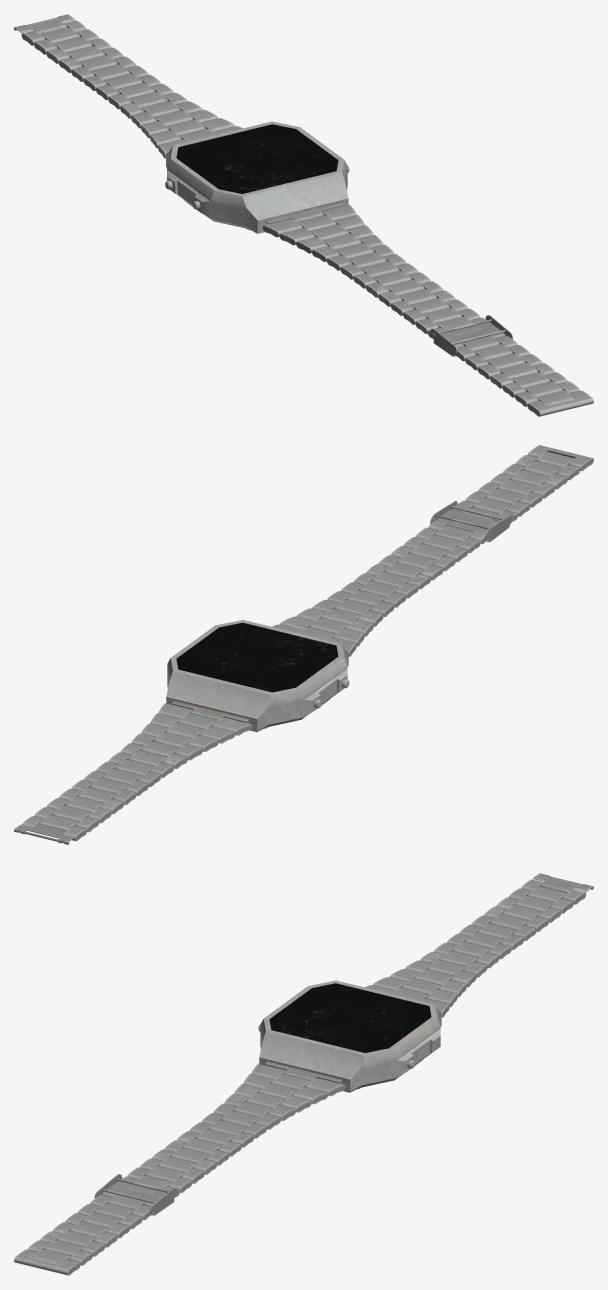
File: digital_wrist_watch.gltf
3 views of the same model, one above another, from view 1: azimuth 30°, elevation 25°; view 2: azimuth 150°, elevation 25°; view 3: azimuth 330°, elevation 25° (orthographic).
Visible parts, largest first — view 1: digital_wrist_watch_strap_b, digital_wrist_watch, digital_wrist_watch_strap_a, digital_wrist_watch_clasp; view 2: digital_wrist_watch_strap_b, digital_wrist_watch, digital_wrist_watch_strap_a, digital_wrist_watch_clasp; view 3: digital_wrist_watch_strap_b, digital_wrist_watch, digital_wrist_watch_strap_a, digital_wrist_watch_clasp.
Part boxes in pixels (x1,y1,x2,y2): digital_wrist_watch_strap_b: [262, 202, 593, 416]; digital_wrist_watch: [165, 121, 349, 233]; digital_wrist_watch_strap_a: [21, 20, 242, 158]; digital_wrist_watch_clasp: [14, 14, 74, 33]; digital_wrist_watch_strap_b: [271, 445, 593, 656]; digital_wrist_watch: [166, 620, 349, 732]; digital_wrist_watch_strap_a: [22, 701, 252, 841]; digital_wrist_watch_clasp: [14, 824, 74, 844]; digital_wrist_watch_strap_b: [14, 1061, 345, 1275]; digital_wrist_watch: [258, 980, 441, 1092]; digital_wrist_watch_strap_a: [365, 879, 586, 1017]; digital_wrist_watch_clasp: [533, 873, 593, 892].
Size of the model in its own units: 0.0365 by 0.00835 by 0.2172.
Materials: 2 (2 with a texture image).
